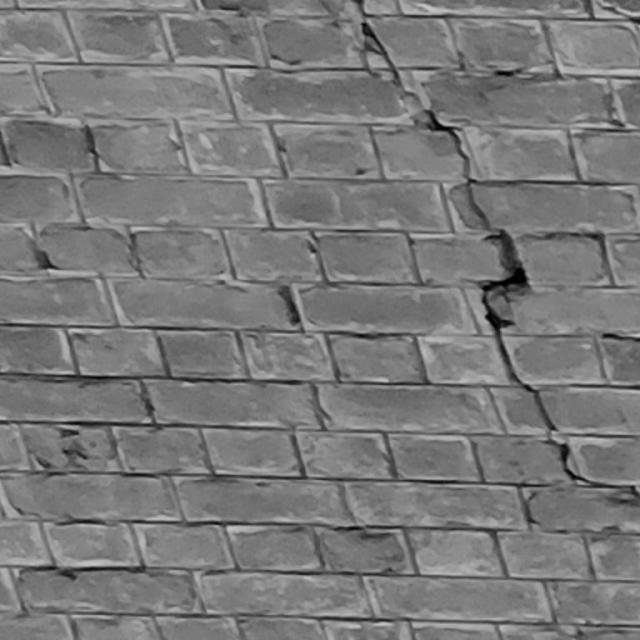crack: (355, 1, 639, 497)
